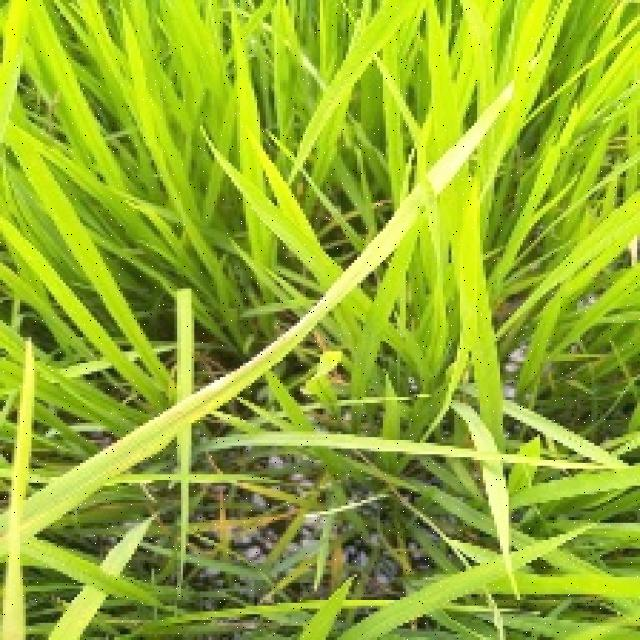health: (0, 0, 629, 365)
